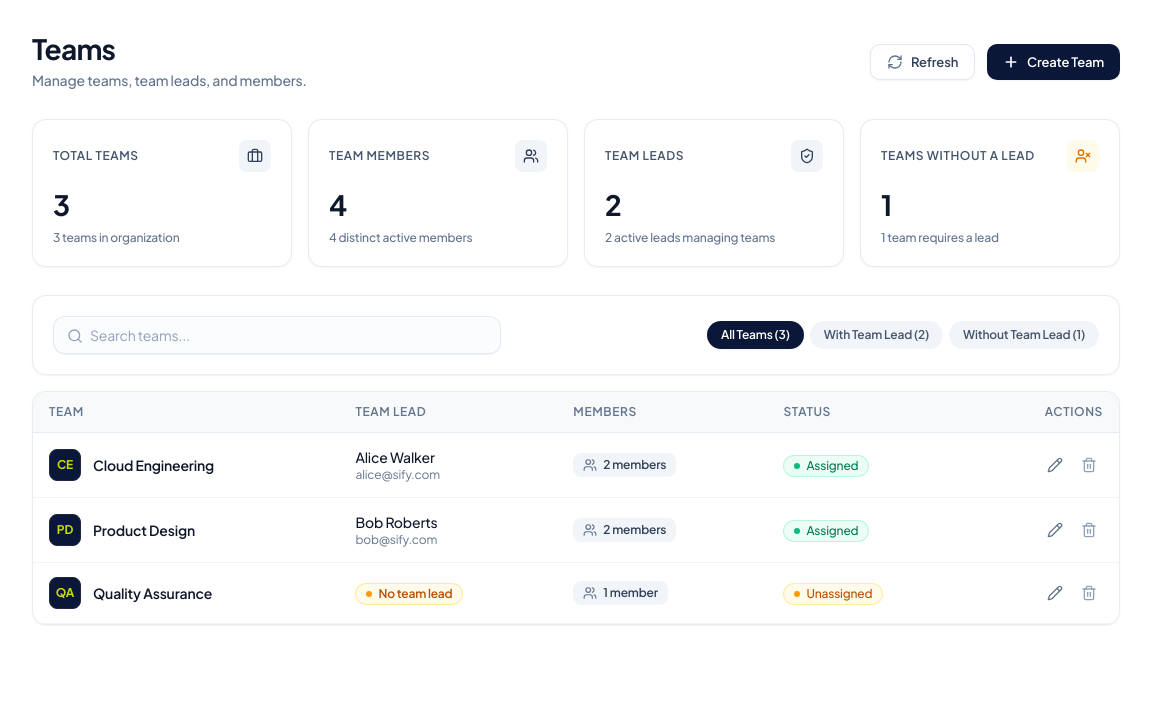
Scenario: TeamsList UX and Functionality Improvements › provides search and filtering that work seamlessly together
Step 1. Type "Cloud" into the field with placeholder "Search teams..." → (277, 335), box [53,316,501,354]
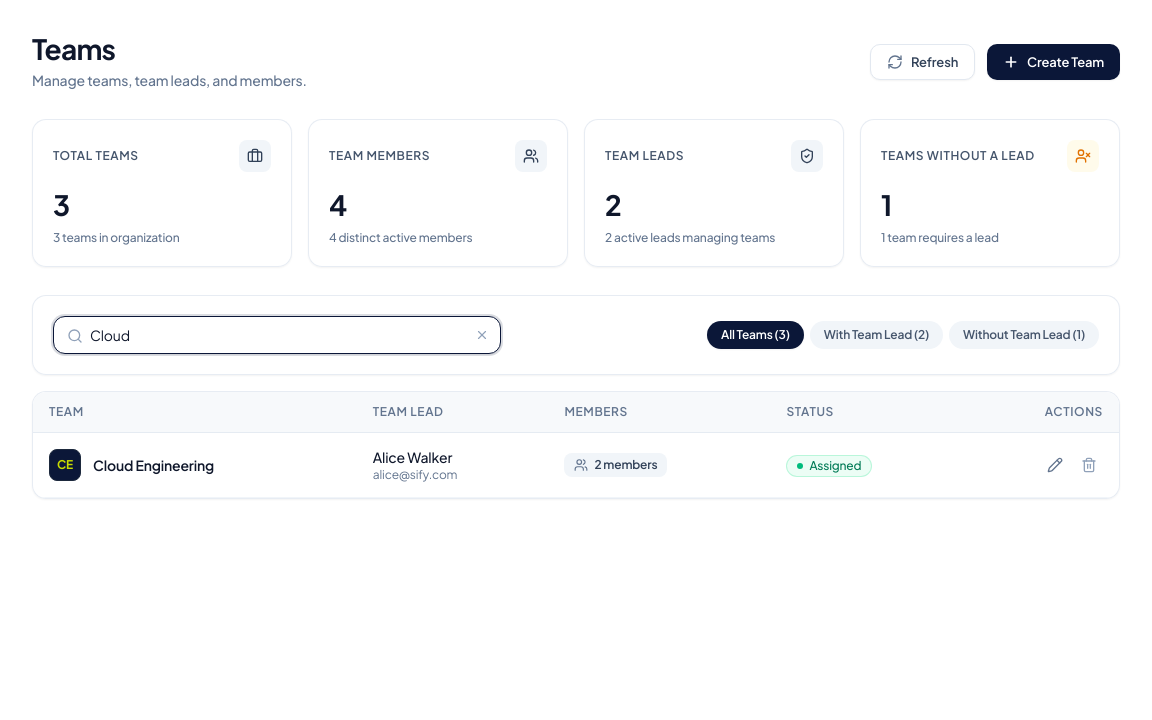
Expected: the text "Cloud Engineering" is shown, [93,455,214,475]
Expected: the text "Product Design" is gone
Expected: the text "Quality Assurance" is gone
# Clear search
Step 2. Click the button titled "Clear search" → (482, 335), box [473,326,491,344]
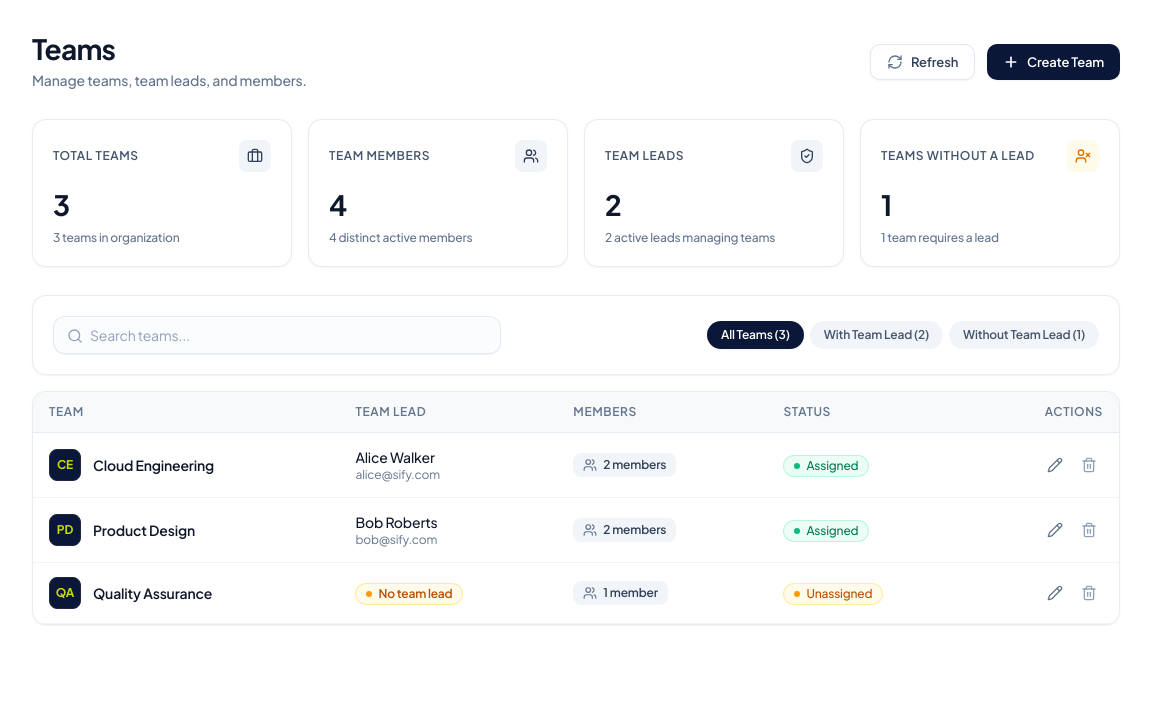
Expected: the text "Product Design" is shown, [93,520,195,540]
# Click "With Team Lead" filter pill
Step 3. Click the button "With Team Lead (2)" → (876, 335), box [810,321,943,349]
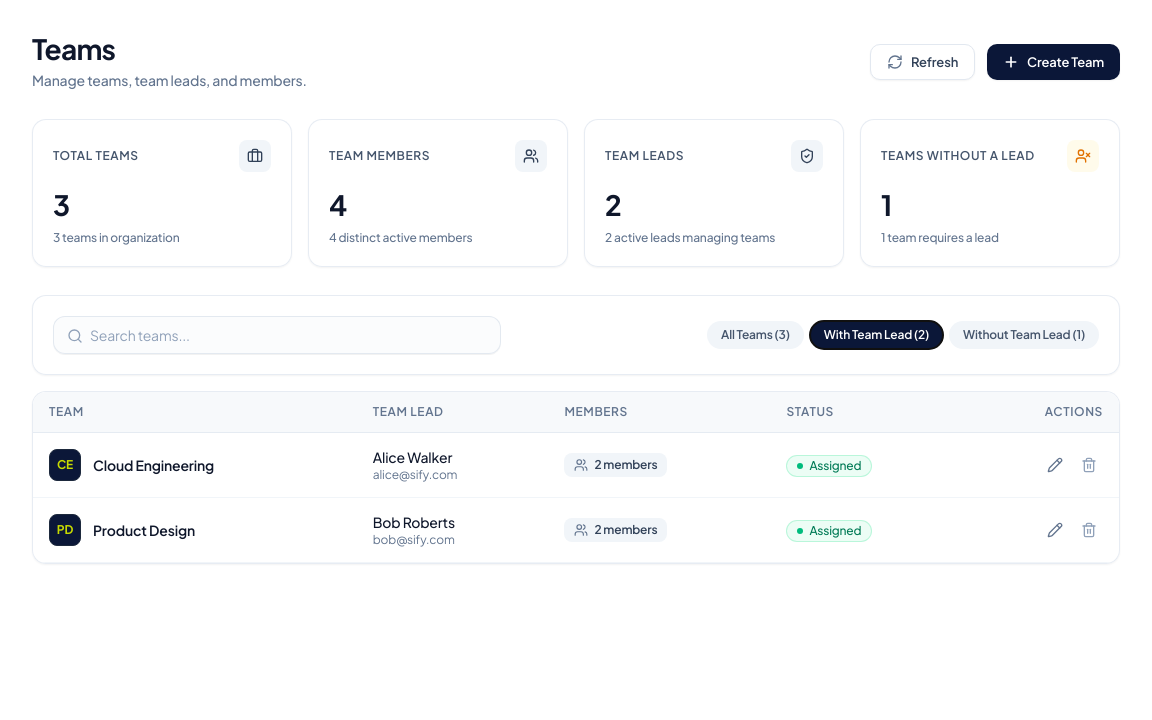
Expected: the text "Cloud Engineering" is shown, [93,455,214,475]
Expected: the text "Product Design" is shown, [93,520,195,540]
Expected: the text "Quality Assurance" is gone
# Click "Without Team Lead" filter pill
Step 4. Click the button "Without Team Lead (1)" → (1024, 335), box [949,321,1099,349]
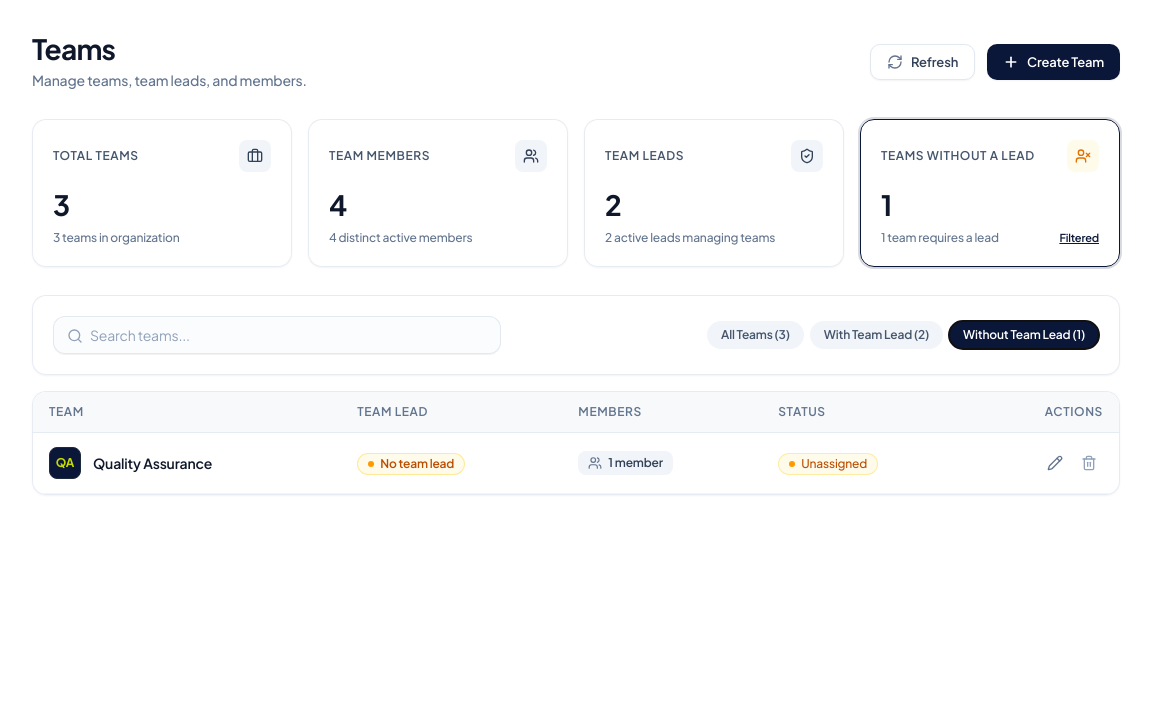
Expected: the text "Cloud Engineering" is gone
Expected: the text "Quality Assurance" is shown, [93,453,212,473]
